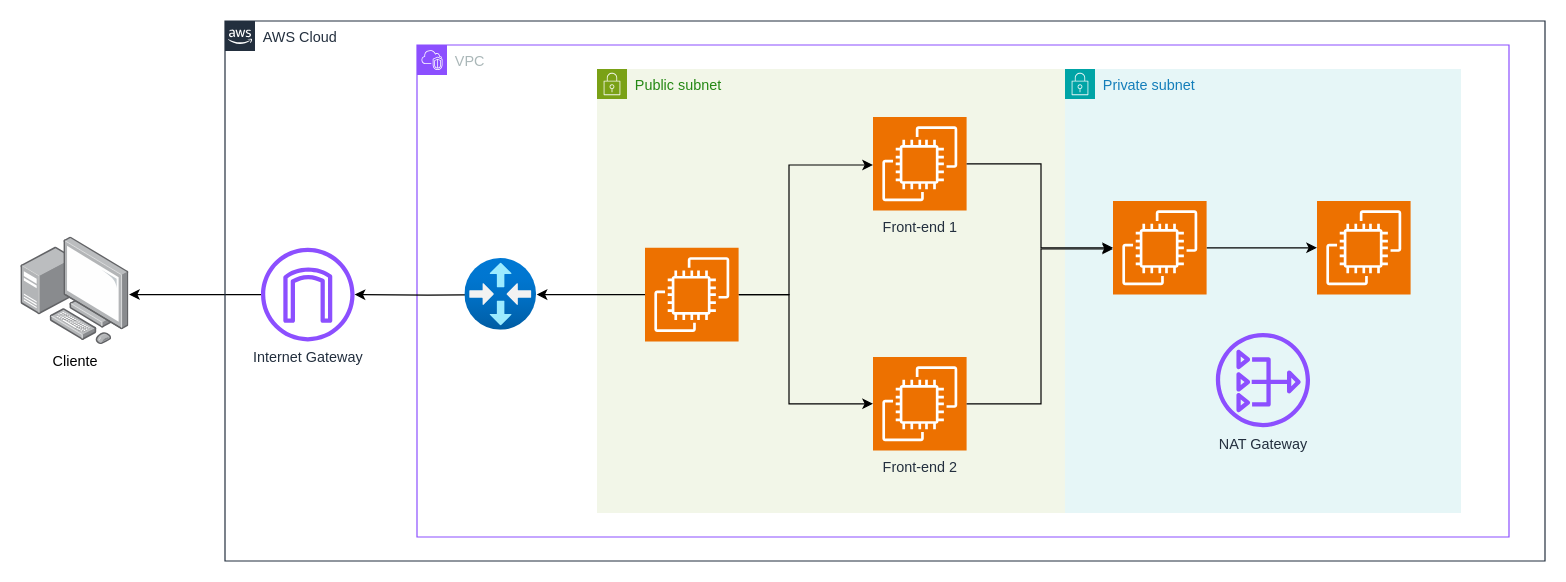
The diagram is 1566 pixels wide and 582 high, and some of its shapes have lost their labels. The centre of each missing label's shape, as x and y in pixels:
"back-end" belongs at [1159,247].
"Banco de dados" belongs at [1363,247].
"Load Balancer" belongs at [691,294].
"Route Table" belongs at [500,294].
